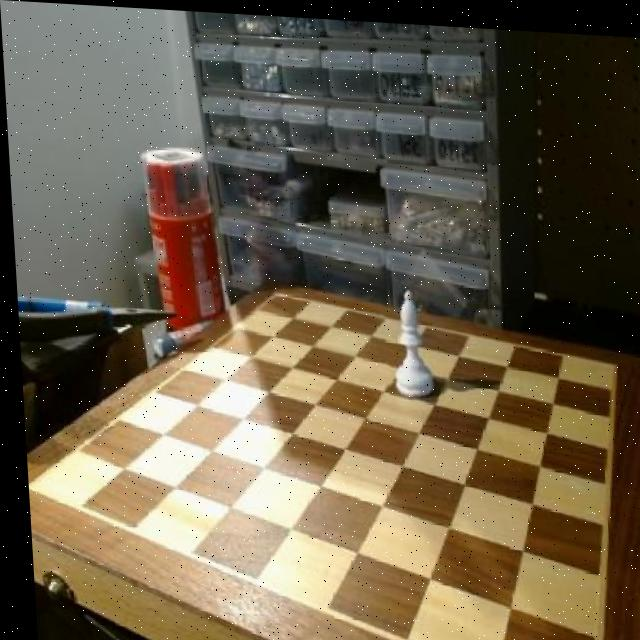black-rook: (379, 280, 433, 398)
